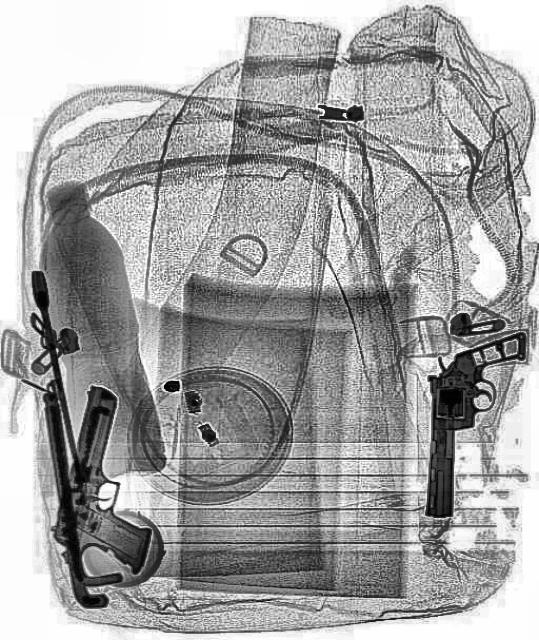Gun: (43, 383, 182, 581), (424, 326, 524, 520)
